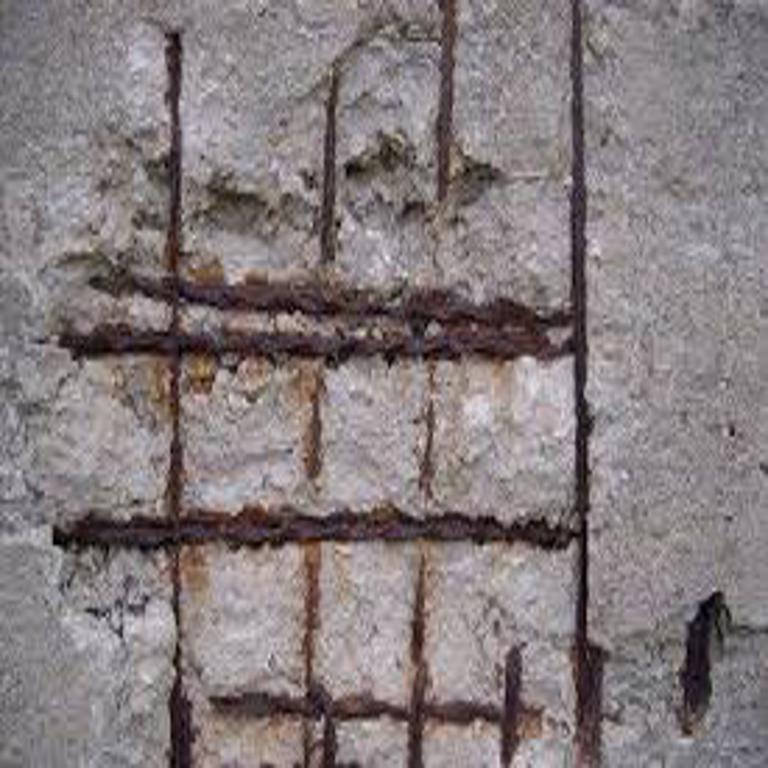exposed_rebar: (206, 542, 540, 768), (60, 254, 570, 360), (570, 0, 603, 768), (54, 508, 576, 550), (170, 542, 195, 768), (435, 1, 458, 201), (318, 62, 340, 266), (165, 32, 183, 279), (165, 356, 184, 520), (303, 363, 326, 480), (418, 361, 436, 506)
spalling: (48, 0, 604, 768), (680, 592, 723, 735)
